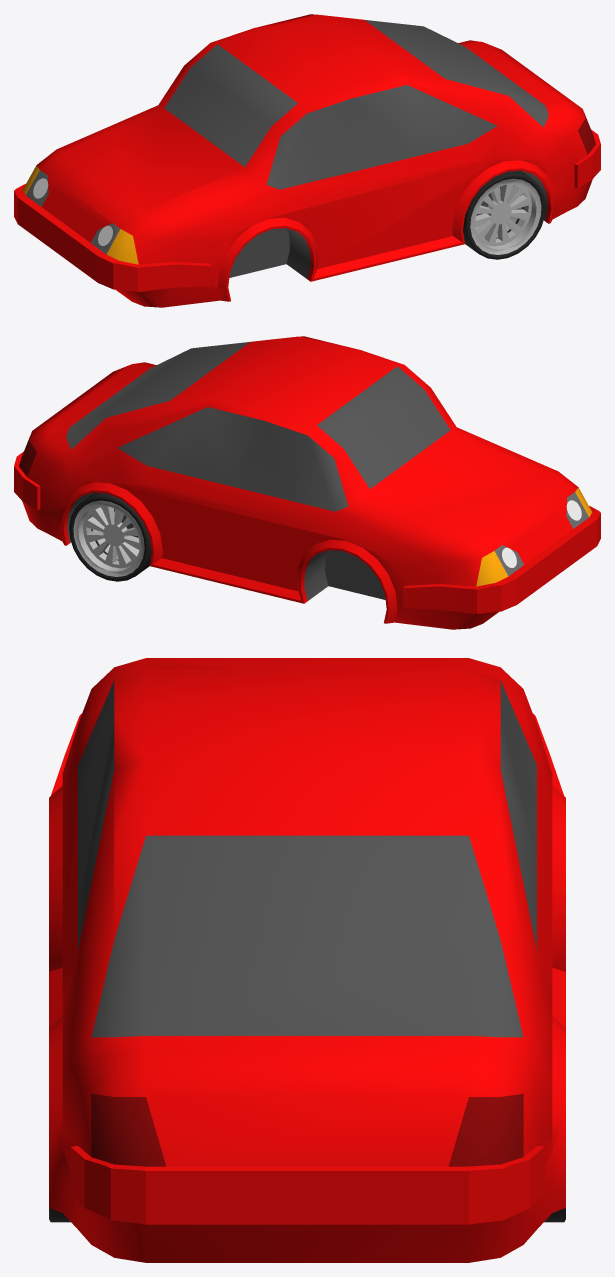
Rendered from red_Car.obj.
3 views of the same model, one above another, from view 1: azimuth 30°, elevation 25°; view 2: azimuth 150°, elevation 25°; view 3: azimuth 270°, elevation 25° (orthographic). The views are drawn at different scales.
Parts seen in each view (by area): view 1: Mesh2 Group1 Model, Mesh3 Group1 Model; view 2: Mesh2 Group1 Model, Mesh1 Group1 Model; view 3: Mesh2 Group1 Model.
Part boxes in pixels (x1=…): Mesh2 Group1 Model: x1=14, y1=14, x2=600, y2=307; Mesh3 Group1 Model: x1=463, y1=170, x2=545, y2=259; Mesh2 Group1 Model: x1=14, y1=336, x2=600, y2=629; Mesh1 Group1 Model: x1=69, y1=492, x2=151, y2=581; Mesh2 Group1 Model: x1=49, y1=658, x2=565, y2=1262.
Bounding box in the file's own units: 18.52 × 6.62 × 8.3.
